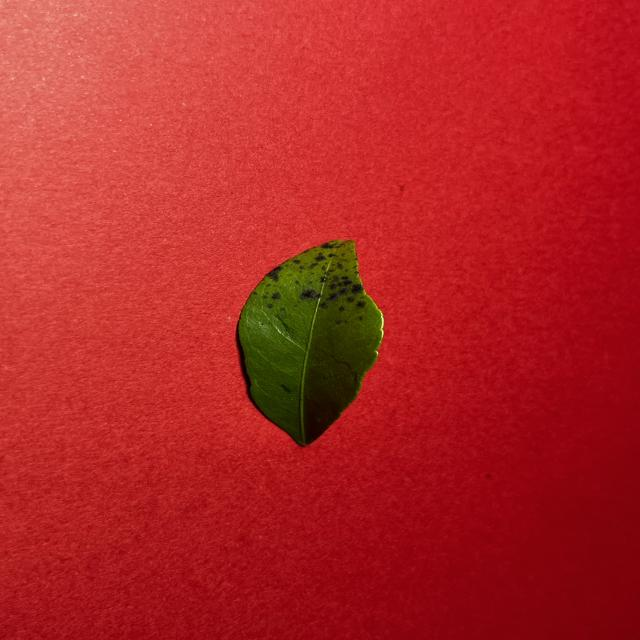sooty_mold: (239, 239, 383, 445)
